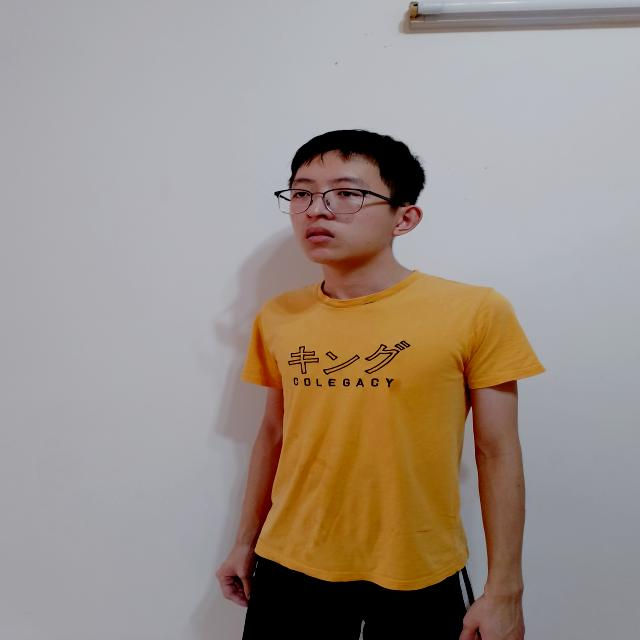person_without_labcoat: (218, 130, 544, 640)
